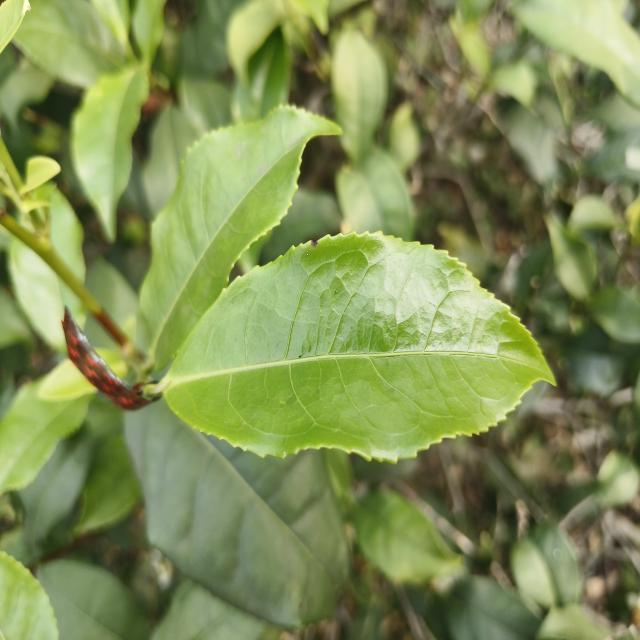Leaf: (161, 232, 554, 461), (140, 106, 338, 368), (125, 401, 349, 627), (71, 65, 149, 242), (512, 0, 640, 106), (353, 489, 462, 584), (0, 381, 89, 494), (13, 0, 124, 87), (18, 431, 92, 556), (37, 559, 149, 640), (8, 239, 86, 350), (331, 29, 387, 164), (336, 148, 414, 241), (151, 580, 268, 640), (76, 433, 141, 534), (510, 525, 582, 609), (447, 576, 541, 640), (231, 27, 291, 122), (0, 551, 58, 640), (227, 0, 285, 84), (545, 215, 596, 300), (50, 189, 86, 283), (590, 286, 640, 343), (38, 359, 97, 401), (97, 348, 127, 375)
